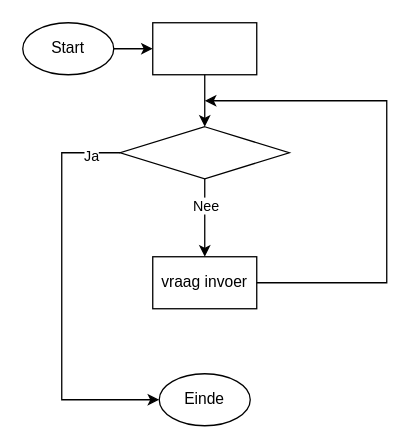
Some shapes in this 420 by 448 pixel diagram are drawn without their labels. The centre of each missing label's shape, as x and y in pixels:
invoer correct?: the point at 204,152
invoer is incorrect: the point at 204,48
